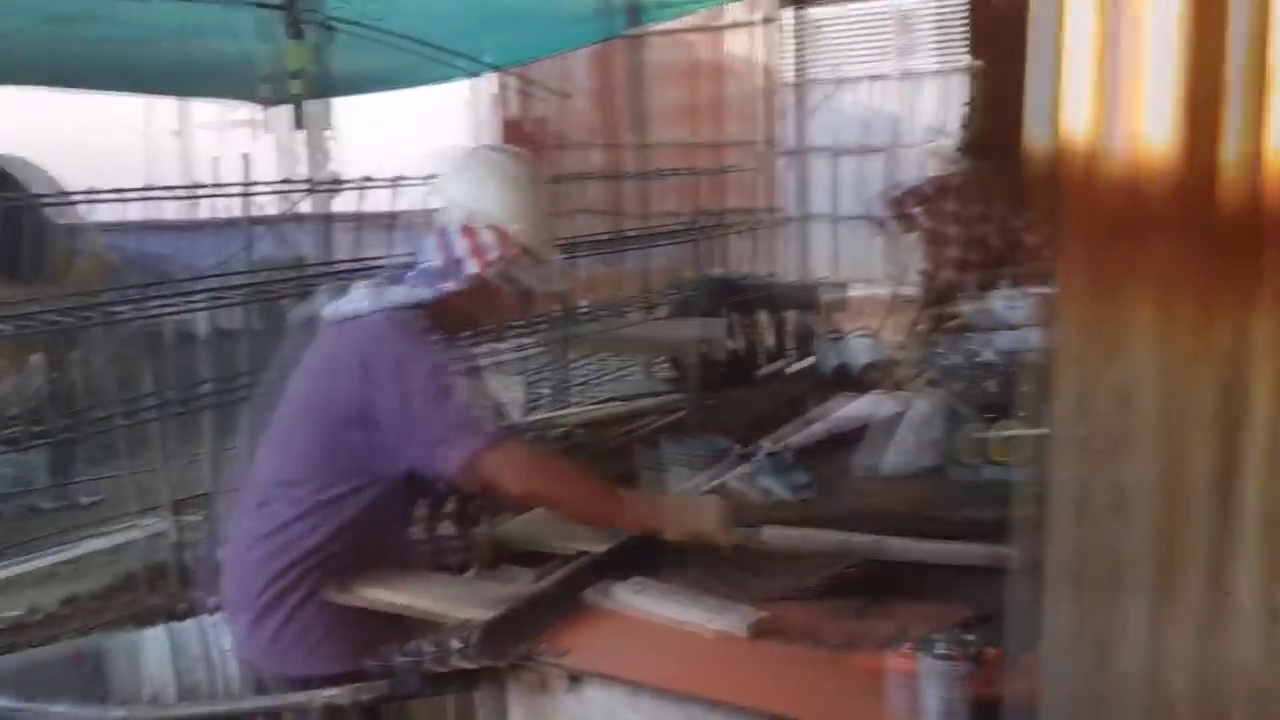helmet: (425, 139, 557, 261)
helmet-on: (388, 133, 570, 336)
person: (210, 118, 798, 720)
